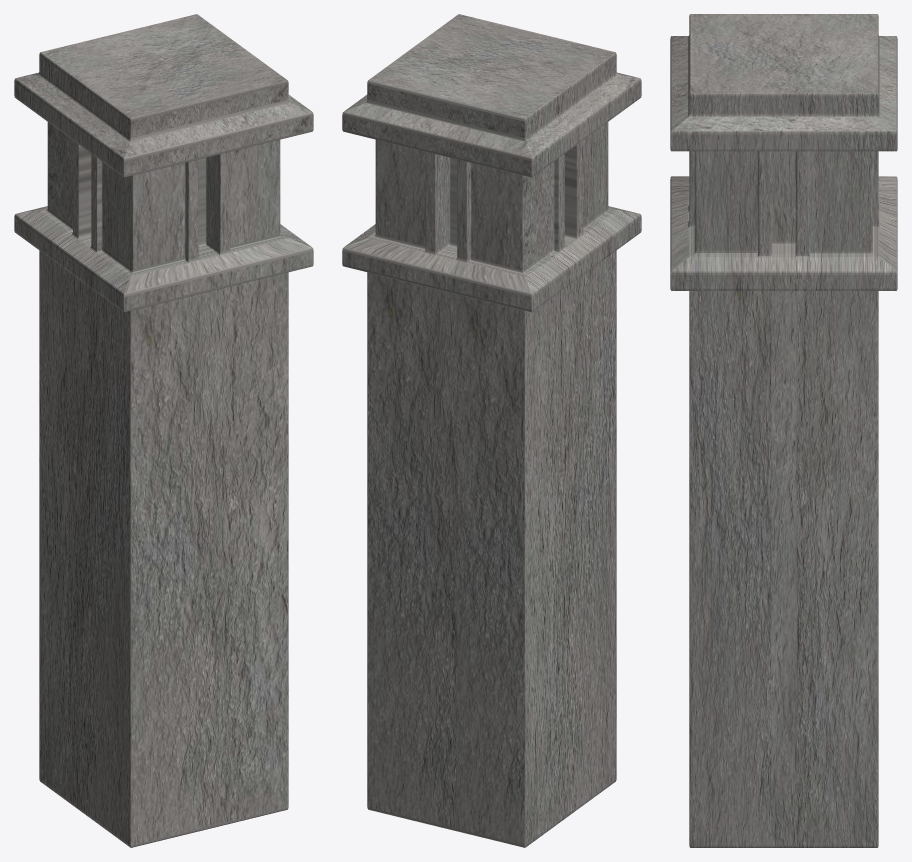
Rendered from OutdoorArchitecture_SingleObjects_Chimney_BShortt.fbx.
The picture shows the model from 3 angles, left to right: view 1: azimuth 30°, elevation 25°; view 2: azimuth 150°, elevation 25°; view 3: azimuth 270°, elevation 25°; orthographic projection. The views are drawn at different scales.
Parts seen in each view (by area): view 1: OutdoorArchitecture_SignleObjects_Chimney_BShortt; view 2: OutdoorArchitecture_SignleObjects_Chimney_BShortt; view 3: OutdoorArchitecture_SignleObjects_Chimney_BShortt.
Boxes of the visible parts, x1=… form: OutdoorArchitecture_SignleObjects_Chimney_BShortt: x1=14, y1=14, x2=313, y2=847; OutdoorArchitecture_SignleObjects_Chimney_BShortt: x1=342, y1=14, x2=641, y2=847; OutdoorArchitecture_SignleObjects_Chimney_BShortt: x1=670, y1=14, x2=897, y2=847.
Size of the model in its own units: 54 by 198 by 54.
1 material, 1 textured.
